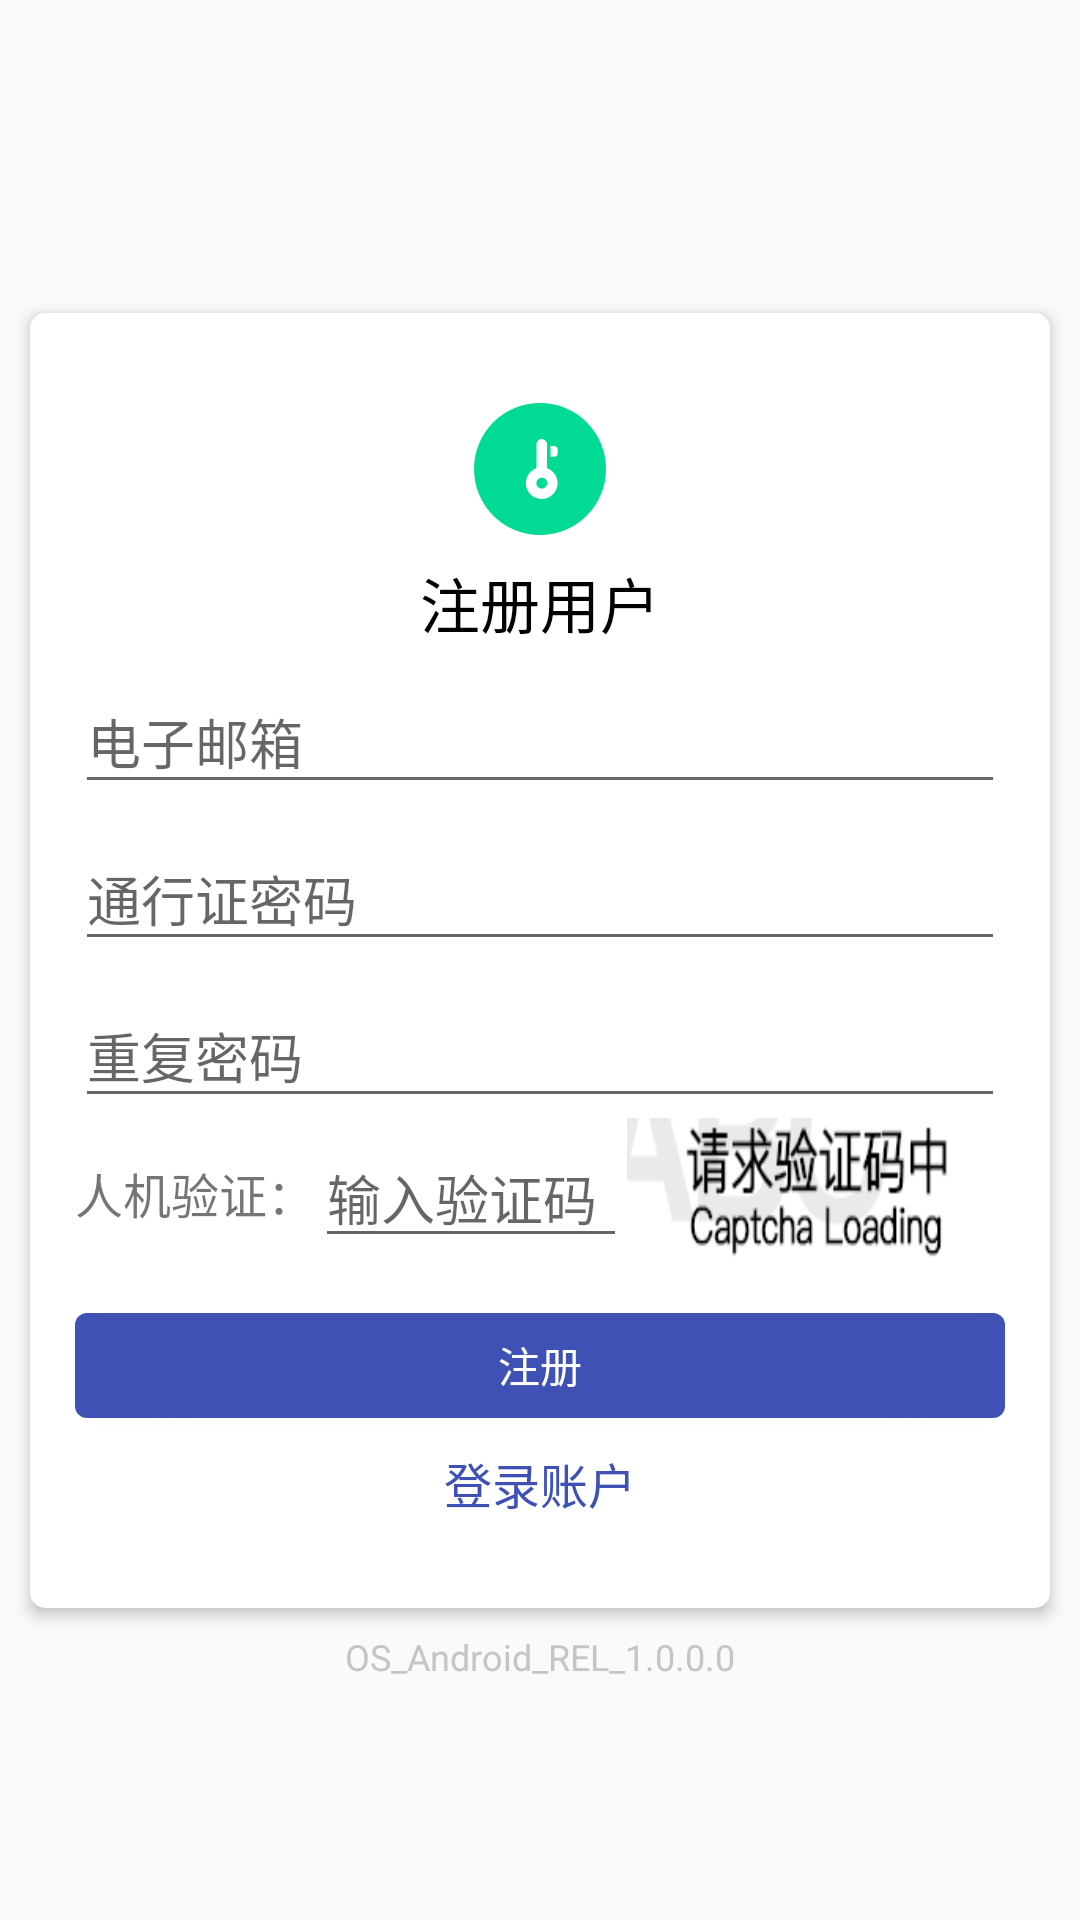

Where to tap for icons on this 1080×1920 app screen, as (x=x, y=y):
key: (x=541, y=469)
